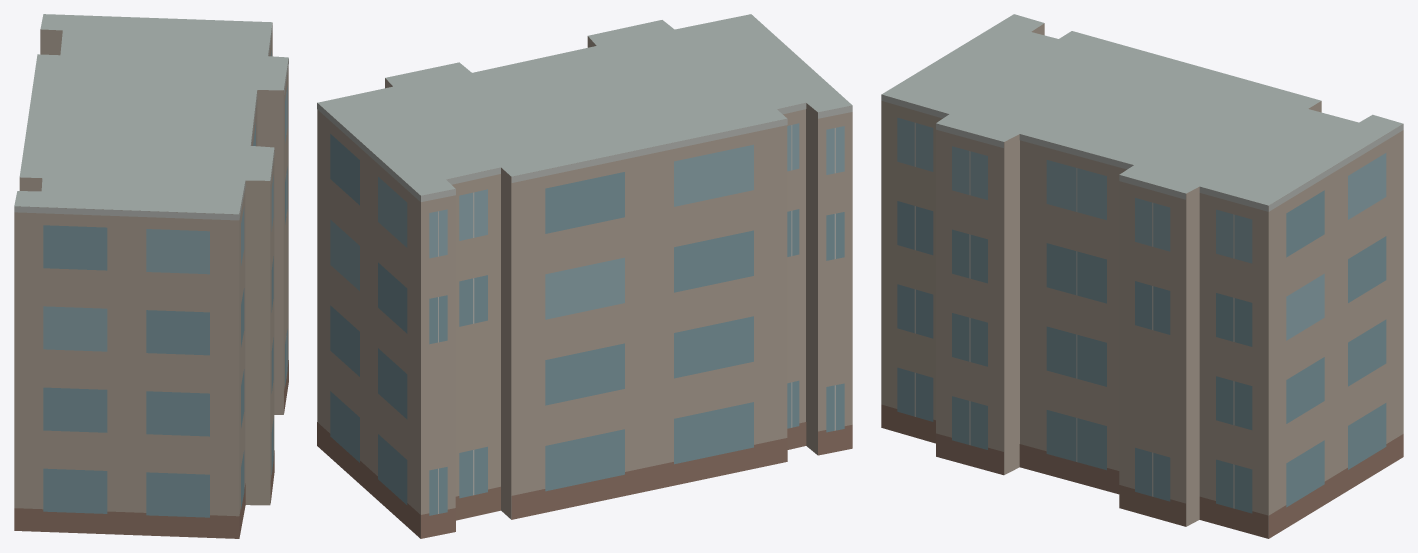
The model's file is survey-upis-32748858.glb.
3 renders of one model, left to right at view 1: azimuth 30°, elevation 25°; view 2: azimuth 150°, elevation 25°; view 3: azimuth 270°, elevation 25°, orthographic. The views are drawn at different scales.
Visible parts, largest first — view 1: survey-upis-32748858.tmp; view 2: survey-upis-32748858.tmp; view 3: survey-upis-32748858.tmp.
Boxes of the visible parts, x1,y1,x2,y2 form: survey-upis-32748858.tmp: (14, 14, 288, 538); survey-upis-32748858.tmp: (317, 14, 852, 538); survey-upis-32748858.tmp: (881, 14, 1403, 538).
Size of the model in its own units: 15.91 by 12.9 by 18.32.
